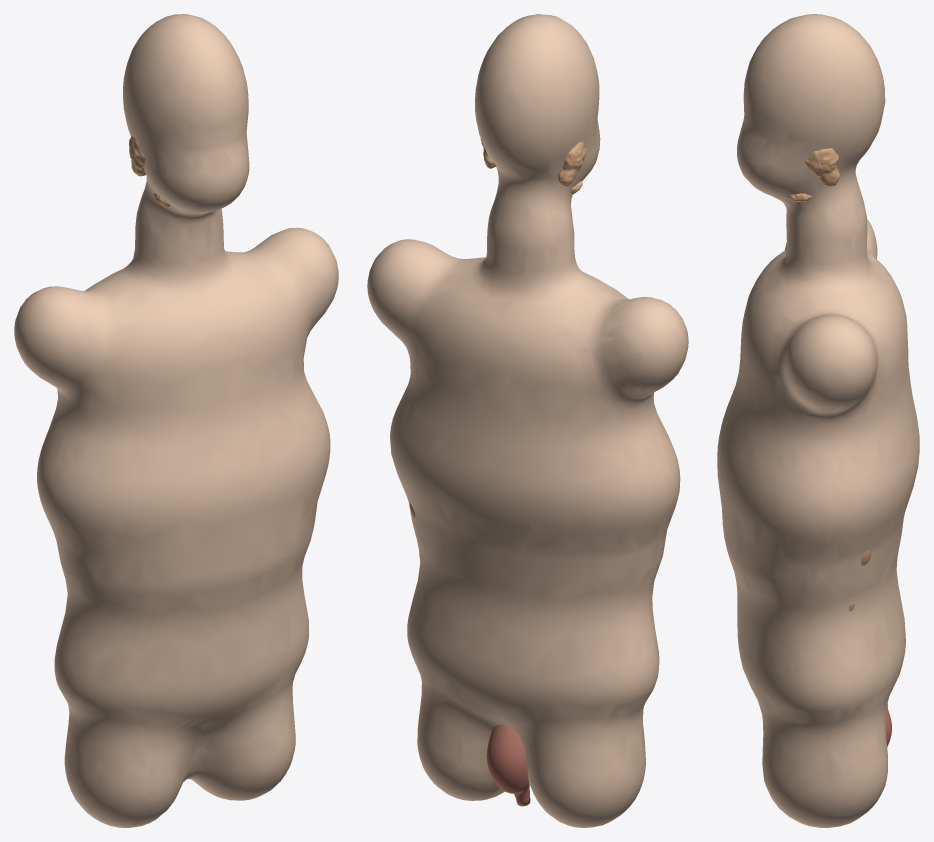
Rendered from fordoejelse.glb.
The picture shows the model from 3 angles, left to right: view 1: azimuth 30°, elevation 25°; view 2: azimuth 150°, elevation 25°; view 3: azimuth 270°, elevation 25°; orthographic projection.
Parts seen in each view (by area): view 1: Krop; view 2: Krop, Endetarm, Oerespytkirtel_H; view 3: Krop, Oerespytkirtel_V.
Part boxes in pixels (x1,y1,x2,y2): Krop: [14, 14, 338, 827]; Krop: [367, 14, 688, 827]; Endetarm: [486, 724, 530, 806]; Oerespytkirtel_H: [558, 142, 586, 186]; Krop: [717, 14, 919, 827]; Oerespytkirtel_V: [805, 148, 839, 186].
Size of the model in its own units: 44.52 by 108 by 25.53.
